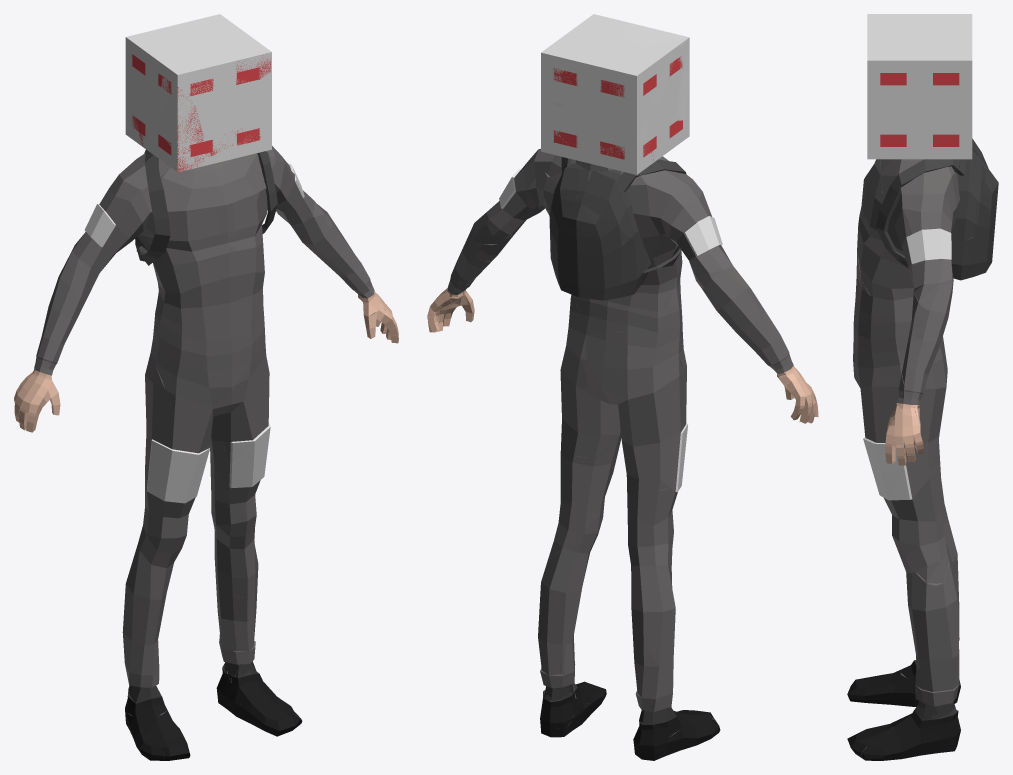
File: en_dead.fbx
3 views of the same model, side by side, from view 1: azimuth 30°, elevation 25°; view 2: azimuth 150°, elevation 25°; view 3: azimuth 270°, elevation 25° (orthographic).
Parts seen in each view (by area): view 1: Low Poly Characte.000, Low Poly Characte.000_cell.093, Low Poly Characte.000_cell.085, Low Poly Characte.000_cell.086, Low Poly Characte.000_cell.101, Low Poly Characte.000_cell.069, Low Poly Characte.000_cell.053, Low Poly Characte.000_cell.083, Low Poly Characte.000_cell.096, Low Poly Characte.000_cell.135, Low Poly Characte.000_cell.010, Low Poly Characte.000_cell.136 (+5 smaller); view 2: Low Poly Characte.000, Low Poly Characte.000_cell.069, Low Poly Characte.000_cell.085, Low Poly Characte.000_cell.119, Low Poly Characte.000_cell.086, Low Poly Characte.000_cell.052, Low Poly Characte.000_cell.113, Low Poly Characte.000_cell.141, Low Poly Characte.000_cell.135, Low Poly Characte.000_cell.096, Low Poly Characte.000_cell.110, Low Poly Characte.000_cell.093 (+4 smaller); view 3: Low Poly Characte.000, Low Poly Characte.000_cell.119, Low Poly Characte.000_cell.083, Low Poly Characte.000_cell.135, Low Poly Characte.000_cell.096, Low Poly Characte.000_cell.052, Low Poly Characte.000_cell.021, Low Poly Characte.000_cell.015, Low Poly Characte.000_cell.024, Low Poly Characte.000_cell.070, Low Poly Characte.000_cell.026, Low Poly Characte.000_cell.128 (+14 smaller).
Part boxes in pixels (x1,y1,x2,y2): Low Poly Characte.000: (14, 14, 398, 760); Low Poly Characte.000_cell.093: (154, 276, 260, 408); Low Poly Characte.000_cell.085: (124, 476, 188, 627); Low Poly Characte.000_cell.086: (122, 616, 161, 717); Low Poly Characte.000_cell.101: (147, 176, 259, 277); Low Poly Characte.000_cell.069: (145, 329, 218, 488); Low Poly Characte.000_cell.053: (143, 169, 193, 238); Low Poly Characte.000_cell.083: (210, 347, 270, 461); Low Poly Characte.000_cell.096: (160, 51, 235, 89); Low Poly Characte.000_cell.135: (211, 508, 258, 596); Low Poly Characte.000_cell.010: (158, 77, 203, 155); Low Poly Characte.000_cell.136: (219, 592, 254, 650); Low Poly Characte.000: (427, 14, 818, 760); Low Poly Characte.000_cell.069: (587, 330, 687, 490); Low Poly Characte.000_cell.085: (627, 472, 683, 646); Low Poly Characte.000_cell.119: (548, 442, 620, 559); Low Poly Characte.000_cell.086: (634, 642, 684, 736); Low Poly Characte.000_cell.052: (560, 337, 620, 458); Low Poly Characte.000_cell.113: (608, 237, 680, 332); Low Poly Characte.000_cell.141: (578, 166, 615, 220); Low Poly Characte.000_cell.135: (541, 515, 599, 613); Low Poly Characte.000_cell.096: (618, 23, 688, 51); Low Poly Characte.000_cell.110: (610, 50, 666, 112); Low Poly Characte.000_cell.093: (660, 279, 686, 369); Low Poly Characte.000: (847, 14, 998, 760); Low Poly Characte.000_cell.119: (879, 463, 948, 583); Low Poly Characte.000_cell.083: (853, 351, 903, 472); Low Poly Characte.000_cell.135: (907, 561, 957, 630); Low Poly Characte.000_cell.096: (867, 14, 915, 42); Low Poly Characte.000_cell.052: (904, 347, 946, 468); Low Poly Characte.000_cell.021: (905, 191, 951, 257); Low Poly Characte.000_cell.015: (949, 189, 975, 240); Low Poly Characte.000_cell.024: (862, 732, 921, 760); Low Poly Characte.000_cell.070: (847, 673, 893, 701); Low Poly Characte.000_cell.026: (953, 237, 982, 279); Low Poly Characte.000_cell.128: (958, 155, 986, 191).
Bounding box in the file's own units: 100 × 174 × 34.65.
